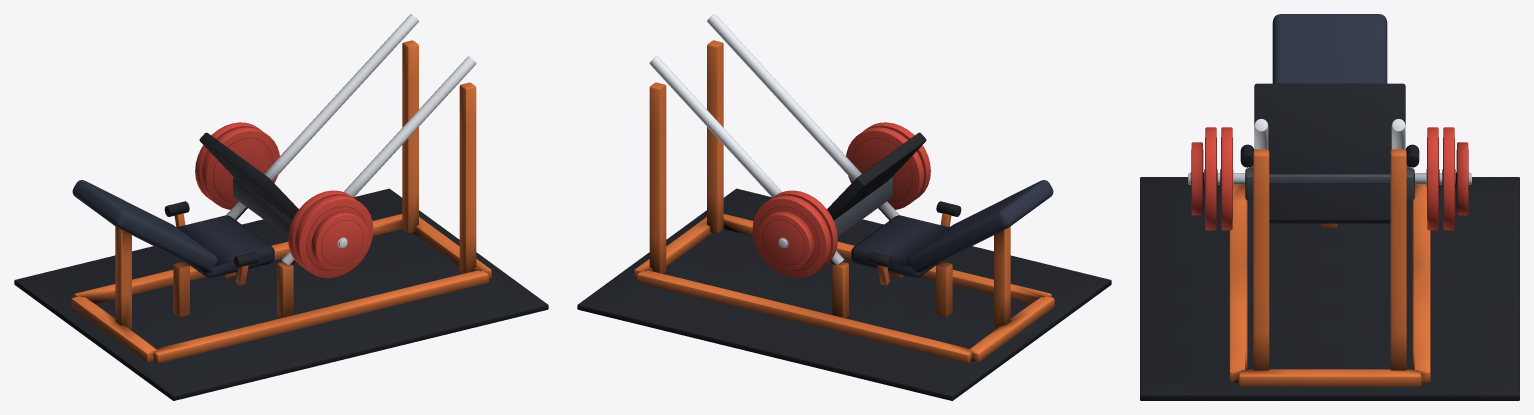
File: m_legpress.glb
3 renders of one model, left to right at view 1: azimuth 30°, elevation 25°; view 2: azimuth 150°, elevation 25°; view 3: azimuth 270°, elevation 25°, orthographic. The views are drawn at different scales.
Visible parts, largest first — view 1: static, o24; view 2: static, o24; view 3: static, o24.
Part boxes in pixels (x1,y1,x2,y2): static: [14, 14, 548, 400]; o24: [195, 122, 373, 278]; static: [577, 14, 1111, 400]; o24: [752, 122, 930, 278]; static: [1140, 14, 1519, 400]; o24: [1188, 83, 1471, 230].
Bounding box in the file's own units: 2.26 × 1.28 × 1.66.
